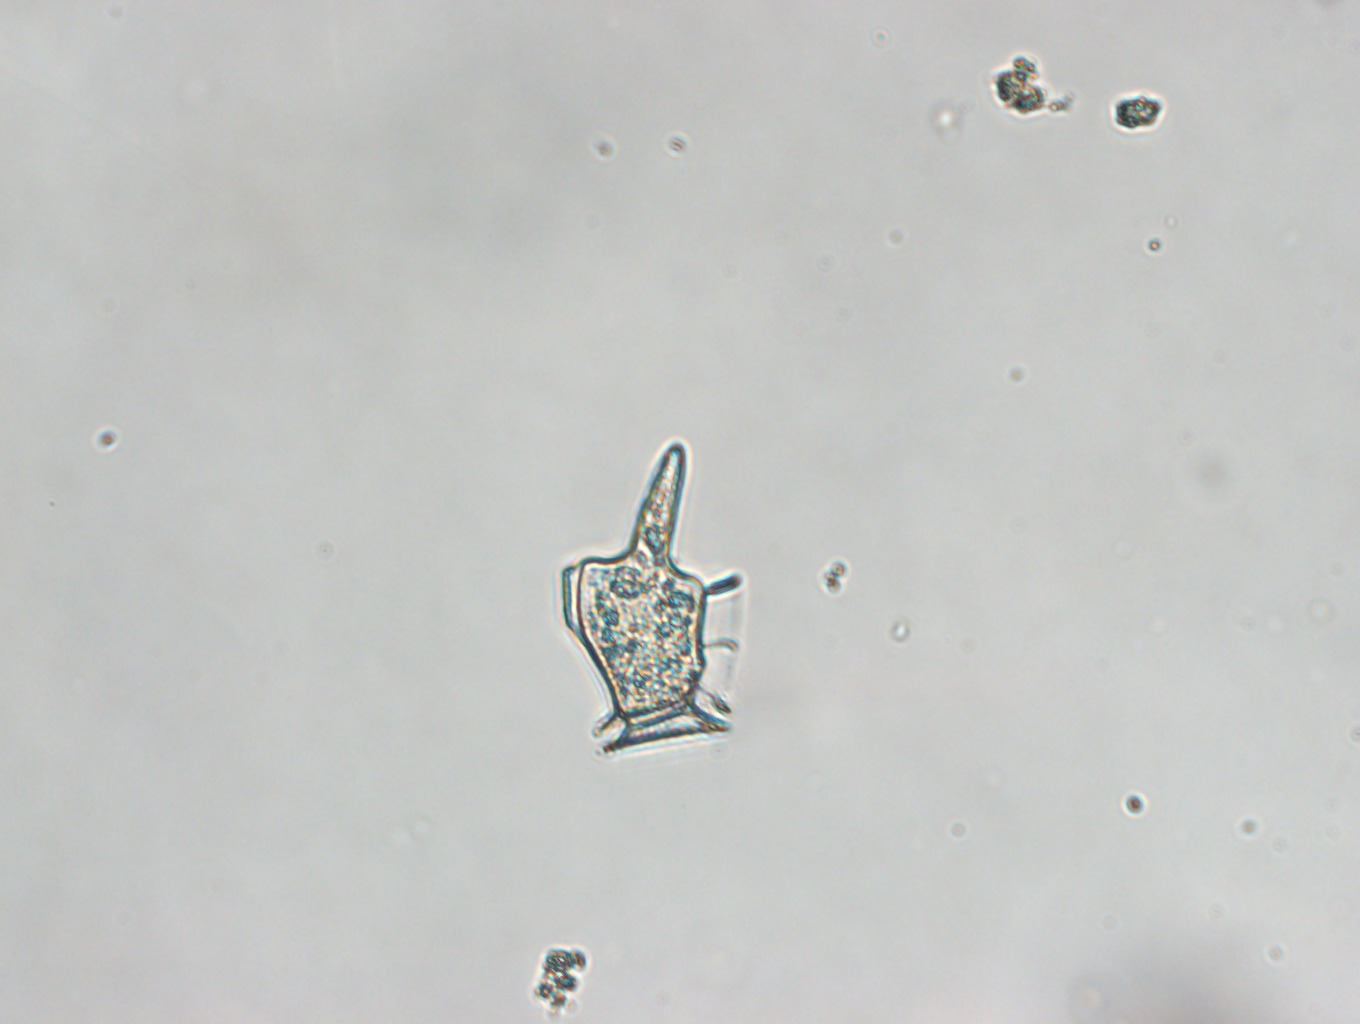dinophysis caudata: (558, 438, 749, 753)
